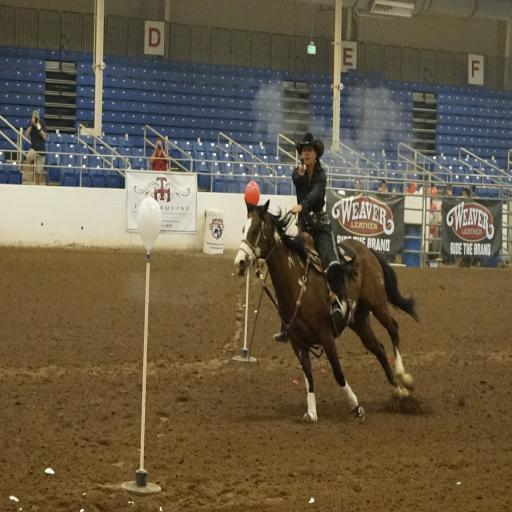horse: (232, 195, 420, 422)
